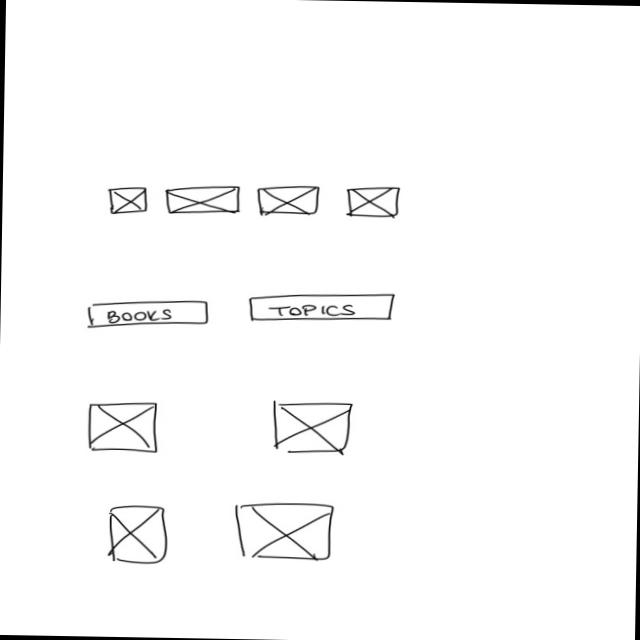button: (248, 291, 399, 325), (84, 298, 211, 333)
image: (235, 501, 336, 562), (271, 400, 354, 458), (84, 401, 162, 455), (108, 504, 169, 566), (165, 182, 244, 217), (257, 184, 323, 219), (347, 187, 403, 220), (109, 184, 150, 216)
